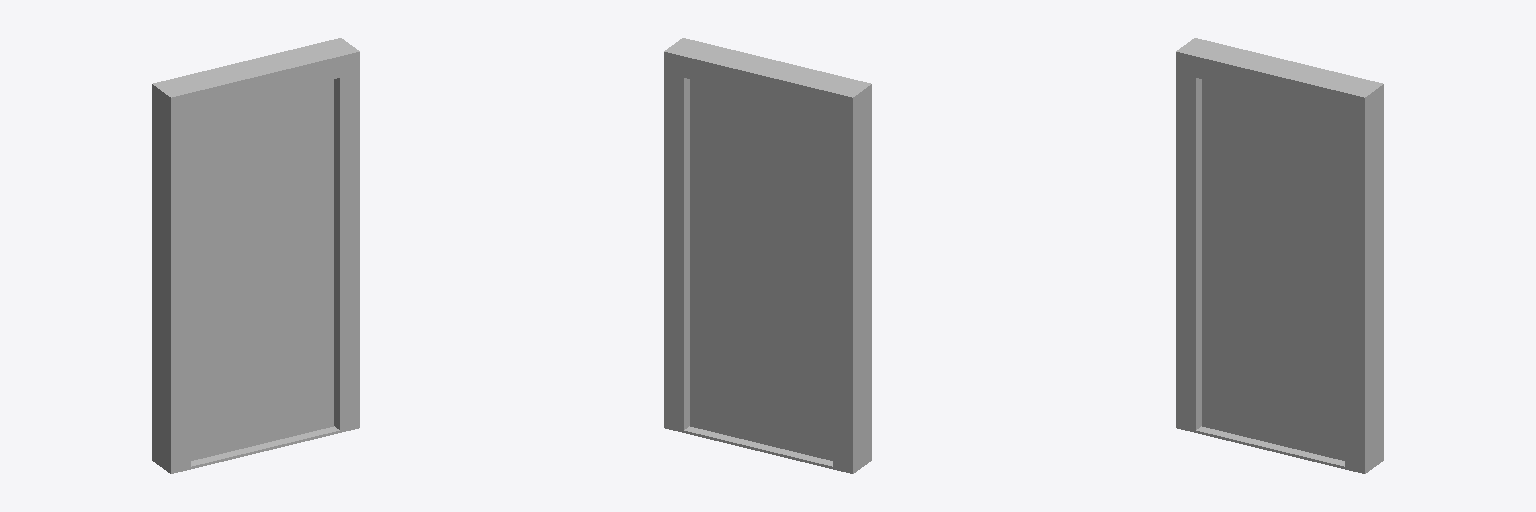
File: Door.obj
3 renders of one model, left to right at view 1: azimuth 30°, elevation 25°; view 2: azimuth 150°, elevation 25°; view 3: azimuth 330°, elevation 25°, orthographic.
Visible parts, largest first — view 1: door; view 2: door; view 3: door.
Boxes of the visible parts, <box> form: door: <box>152,38,359,473</box>; door: <box>664,38,871,473</box>; door: <box>1176,38,1383,473</box>.
Bounding box in the file's own units: 4.01 × 7.63 × 0.6968.